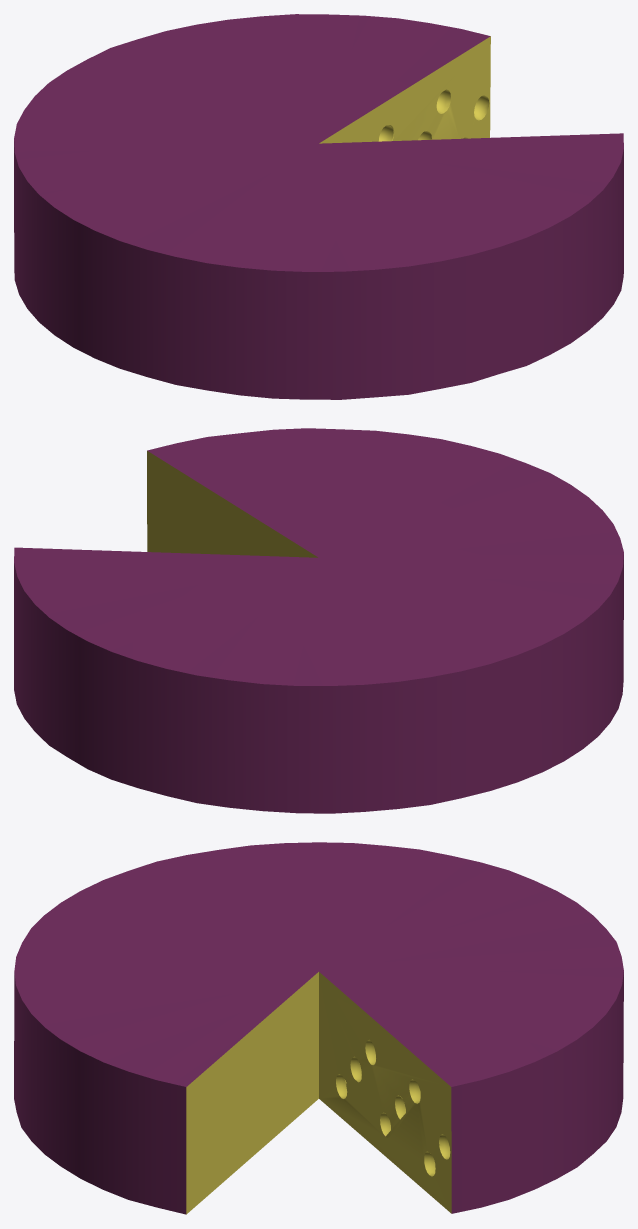
3 renders of one model, top to bottom at view 1: azimuth 30°, elevation 25°; view 2: azimuth 150°, elevation 25°; view 3: azimuth 270°, elevation 25°, orthographic.
Visible parts, largest first — view 1: TI048 / whole cheese wheel with removed wedge; view 2: TI048 / whole cheese wheel with removed wedge; view 3: TI048 / whole cheese wheel with removed wedge.
Part boxes in pixels (box(x1,y1,x2,y2)): TI048 / whole cheese wheel with removed wedge: box(14, 14, 623, 399); TI048 / whole cheese wheel with removed wedge: box(14, 428, 623, 813); TI048 / whole cheese wheel with removed wedge: box(14, 842, 623, 1214).
Size of the model in its own units: 2.47 by 0.6048 by 2.6.
